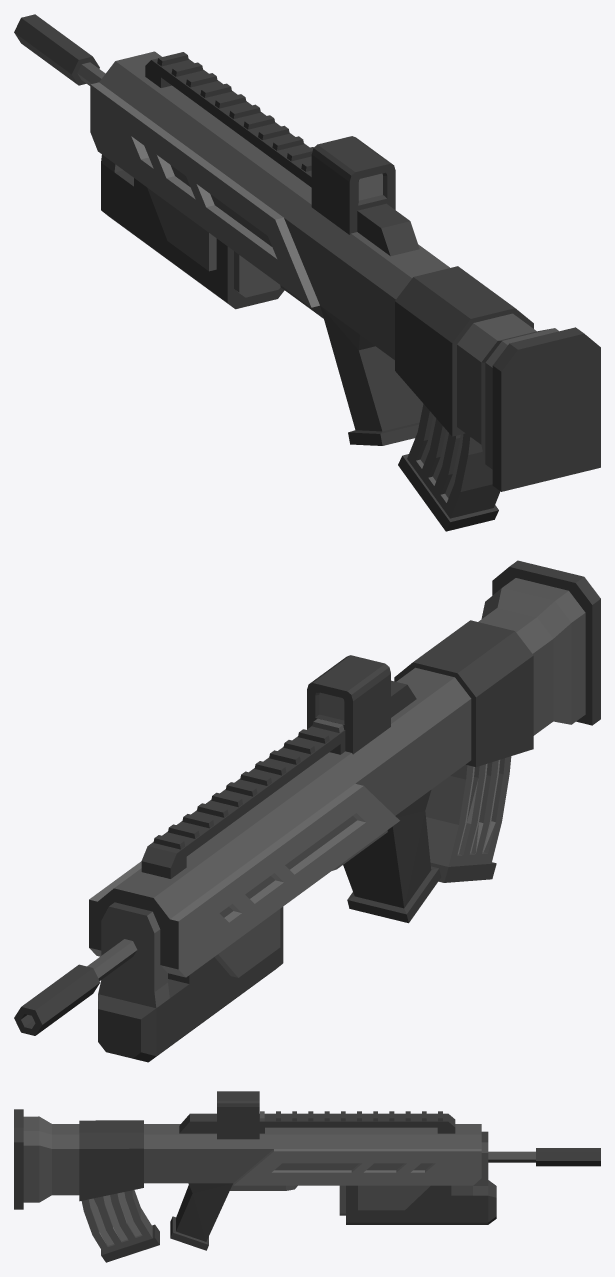
Rendered from fusil_7.glb.
3 views of the same model, one above another, from view 1: azimuth 30°, elevation 25°; view 2: azimuth 150°, elevation 25°; view 3: azimuth 270°, elevation 25° (orthographic). The views are drawn at different scales.
Parts seen in each view (by area): view 1: fusil_7, fusil_charguer_7, fusil_scope_7; view 2: fusil_7, fusil_charguer_7, fusil_scope_7; view 3: fusil_7, fusil_charguer_7, fusil_scope_7.
Boxes of the visible parts, left/top/right/bottom form: fusil_7: left=14, top=14, right=600, bottom=491; fusil_charguer_7: left=398, top=404, right=500, bottom=531; fusil_scope_7: left=311, top=136, right=395, bottom=234; fusil_7: left=14, top=560, right=600, bottom=1062; fusil_charguer_7: left=425, top=756, right=511, bottom=882; fusil_scope_7: left=307, top=655, right=390, bottom=754; fusil_7: left=14, top=1109, right=600, bottom=1250; fusil_charguer_7: left=81, top=1190, right=159, bottom=1262; fusil_scope_7: left=217, top=1091, right=259, bottom=1139.
Bounding box in the file's own units: 0.3343 × 0.9146 × 3.03.
Materials: 1 (1 with a texture image).
